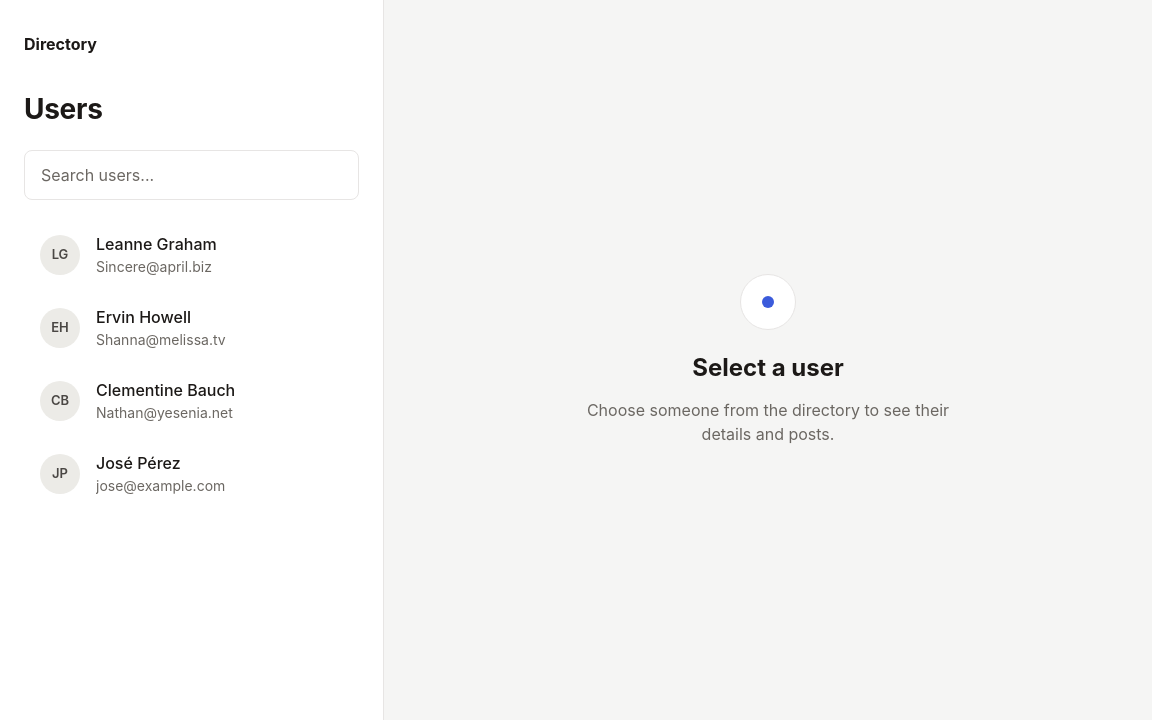
User posts › shows an error when posts fail to load and recovers after "Try again"
The image size is (1152, 720).
Step 1. Click the button "LG Leanne Graham Sincere@april.biz" → [192, 254], box [24,220,359,289]
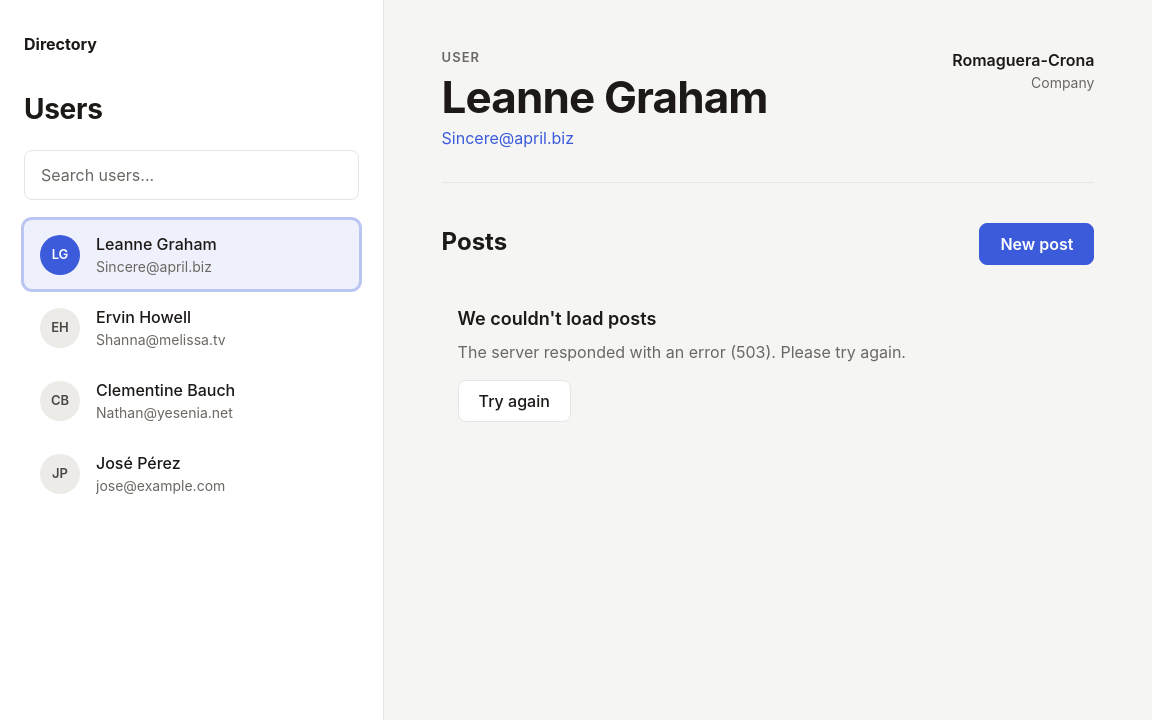
Now the message shows "We couldn't load posts", box [458,308,656,329]
Step 2. Click the button "Try again" → [514, 401], box [458,380,571,422]
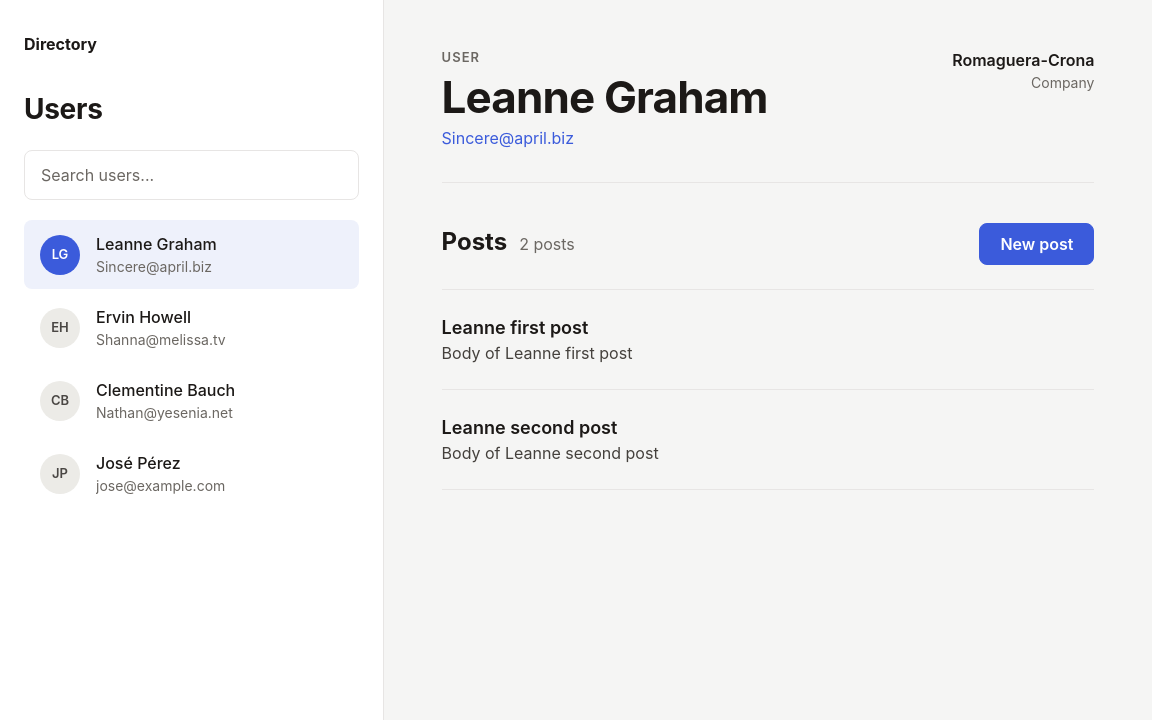
Now the heading "Leanne first post" is shown, box [442,317,588,338]
Now the message is gone
